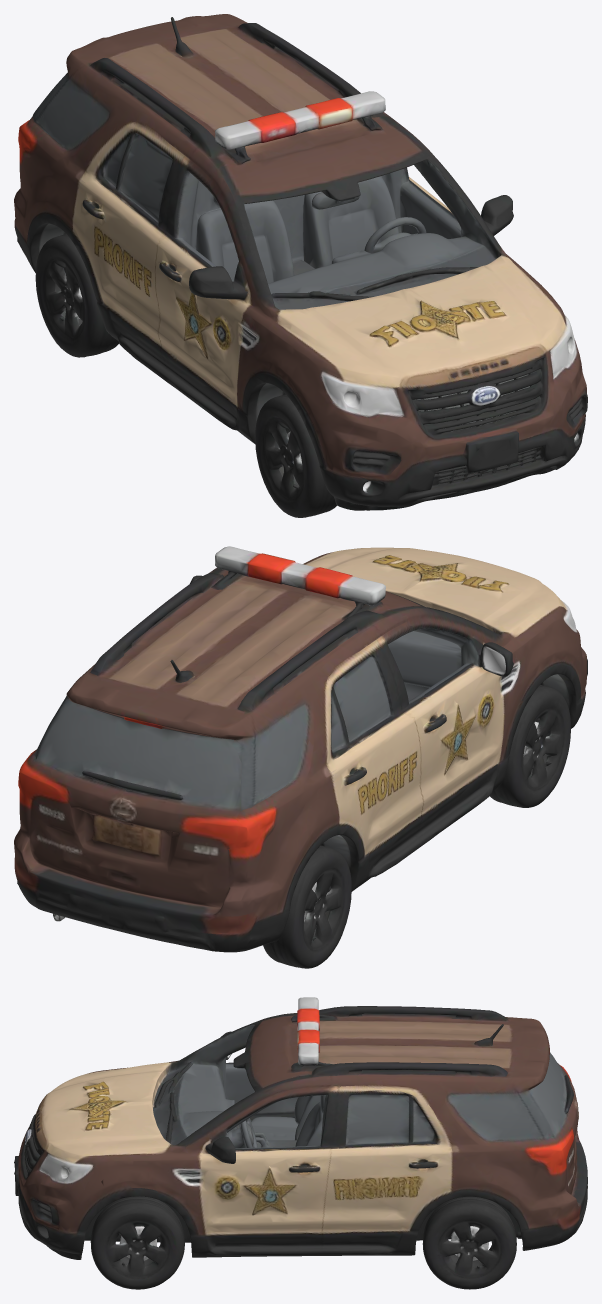
The model's file is 034_sheriff_cruiser.glb.
The picture shows the model from 3 angles, top to bottom: view 1: azimuth 30°, elevation 25°; view 2: azimuth 150°, elevation 25°; view 3: azimuth 270°, elevation 25°; orthographic projection. The views are drawn at different scales.
Visible parts, largest first — view 1: geometry_0; view 2: geometry_0; view 3: geometry_0.
Part boxes in pixels (<box>): geometry_0: <box>14,14,587,517</box>; geometry_0: <box>14,546,587,968</box>; geometry_0: <box>14,997,587,1289</box>.
Size of the model in its own units: 2.53 by 2.2 by 5.2.
1 material, 1 textured.
